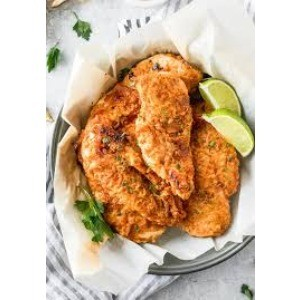chicken breast_brain food: (90, 80, 193, 215)
